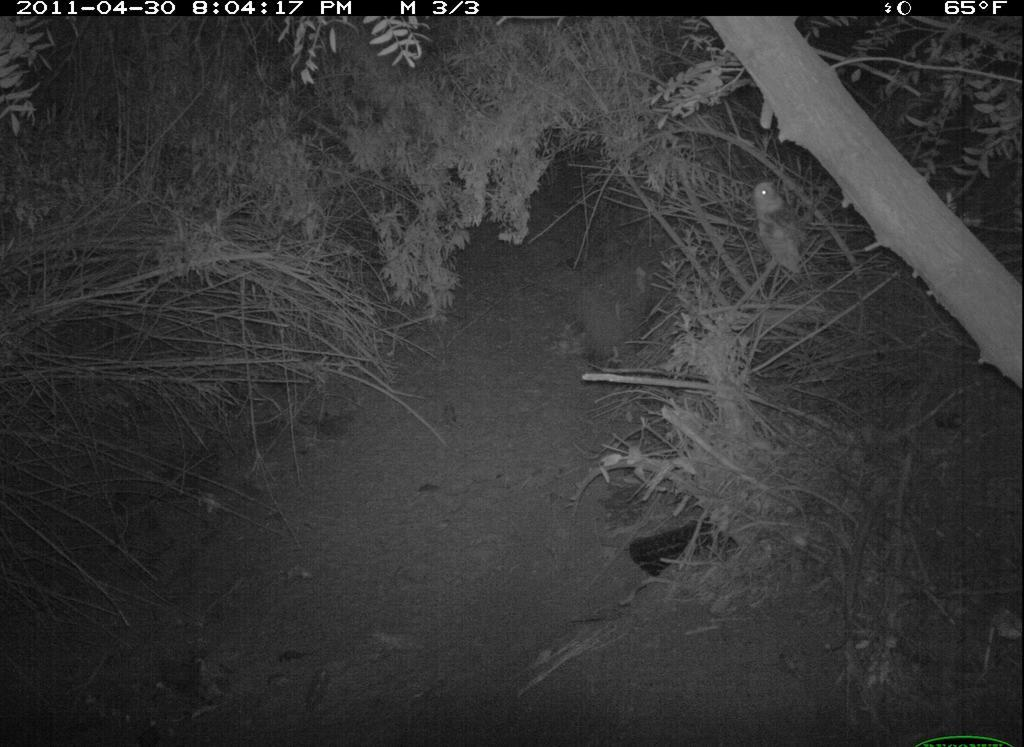bird: (742, 167, 827, 285)
